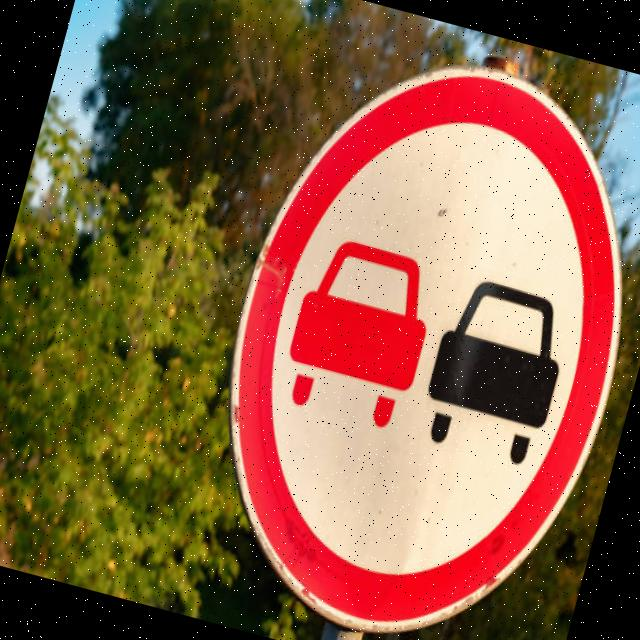no_passing: (165, 13, 640, 640)
